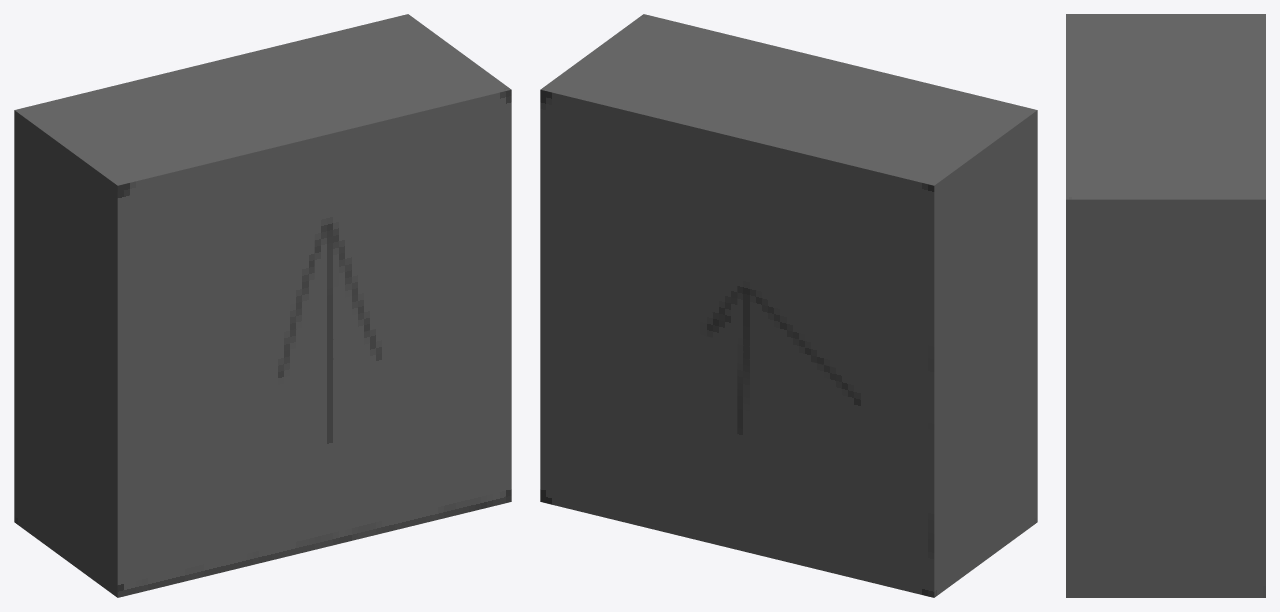
Rendered from Wall_LOD1.glb.
3 views of the same model, side by side, from view 1: azimuth 30°, elevation 25°; view 2: azimuth 150°, elevation 25°; view 3: azimuth 270°, elevation 25° (orthographic). The views are drawn at different scales.
Parts seen in each view (by area): view 1: Cube; view 2: Cube; view 3: Cube.
Boxes of the visible parts, x1,y1,x2,y2 form: Cube: [14, 14, 511, 597]; Cube: [540, 14, 1037, 597]; Cube: [1066, 14, 1265, 597].
Bounding box in the file's own units: 4.4 × 4.4 × 2.
1 material, 1 textured.
